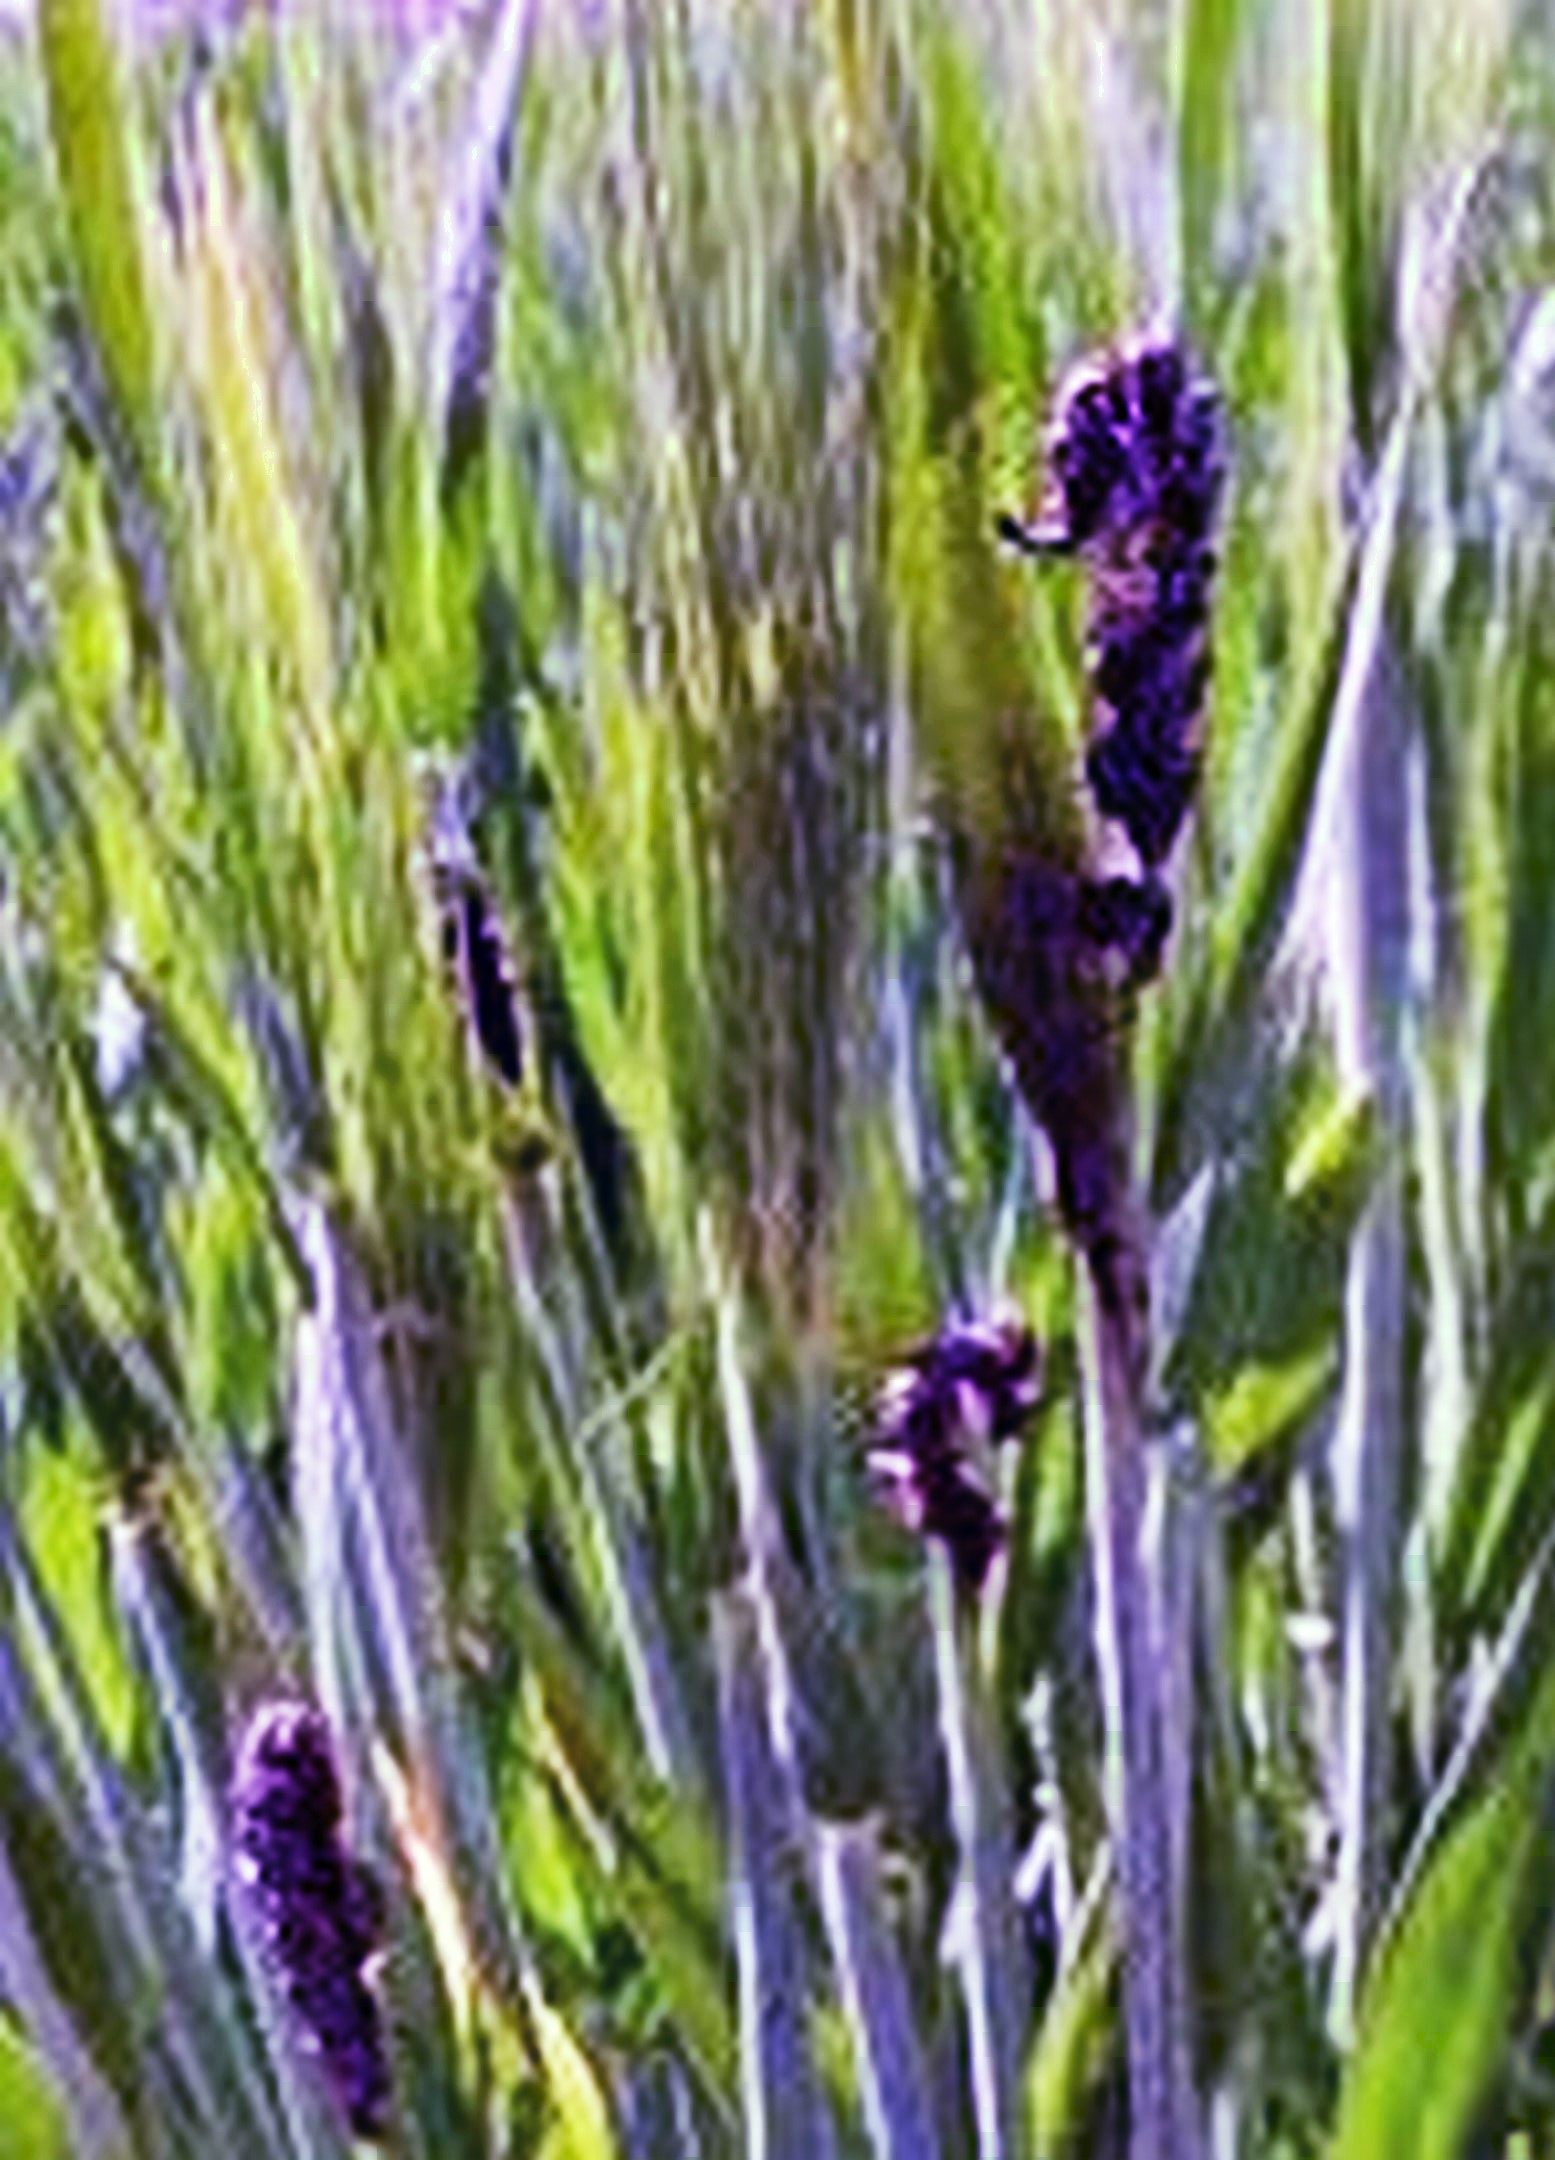Wheat Loose Smut: (990, 292, 1273, 880)
